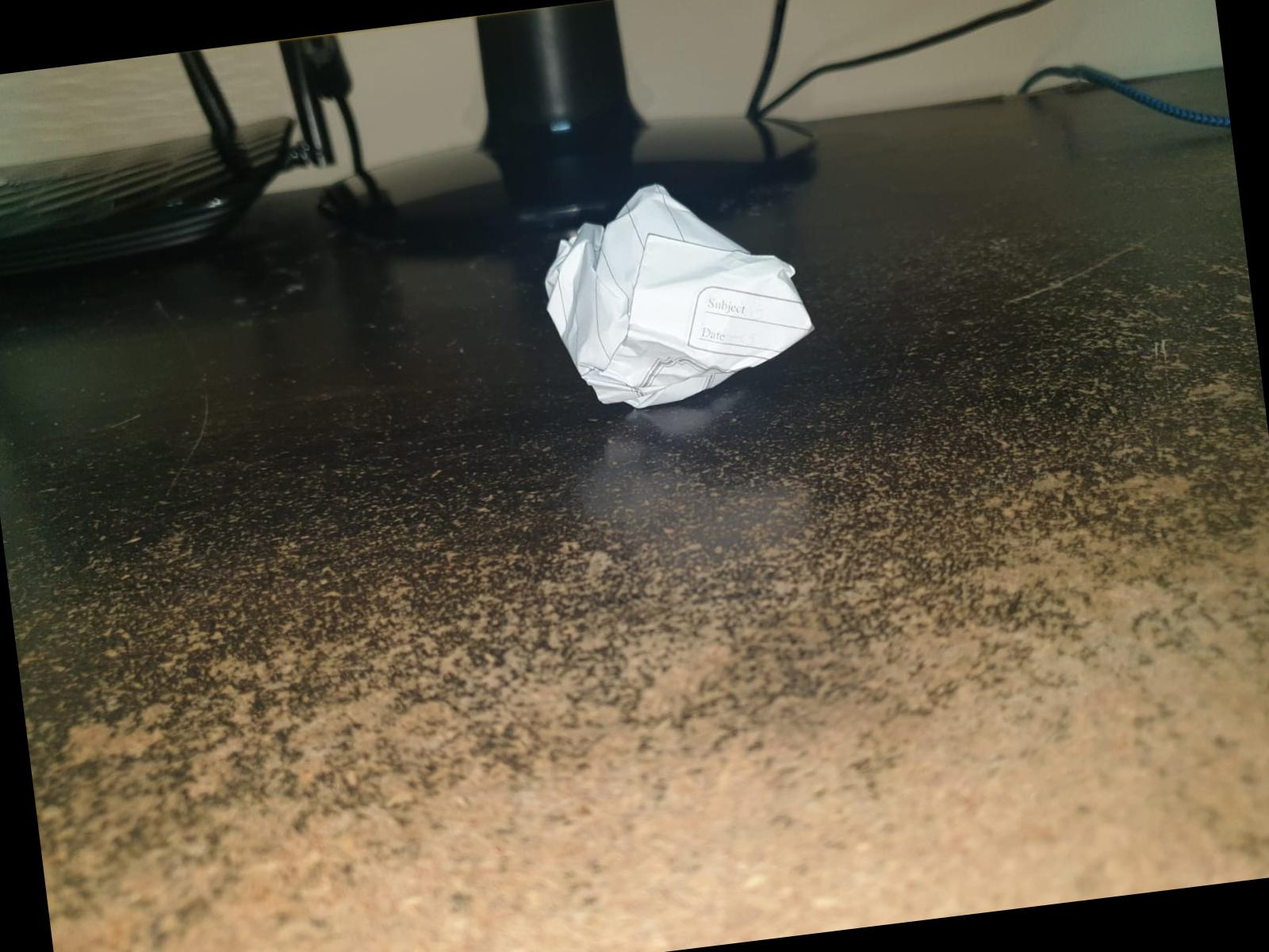Kertas: (537, 186, 822, 412)
